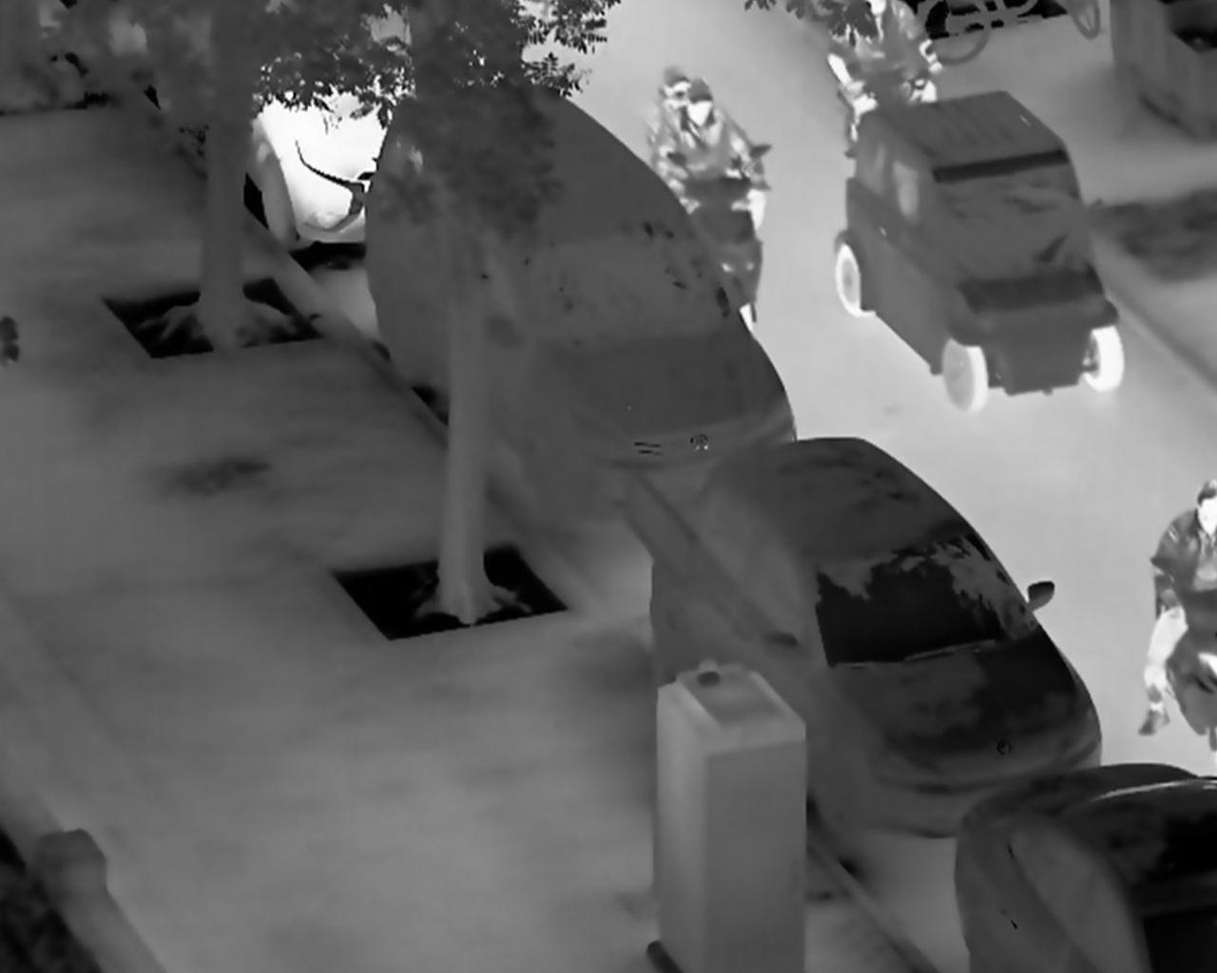person: (1133, 476, 1217, 738), (652, 76, 770, 228)
